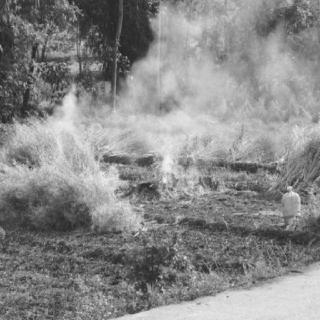Fire: (154, 141, 182, 185)
Smoke: (243, 54, 285, 92), (191, 66, 225, 108), (158, 67, 178, 101)
